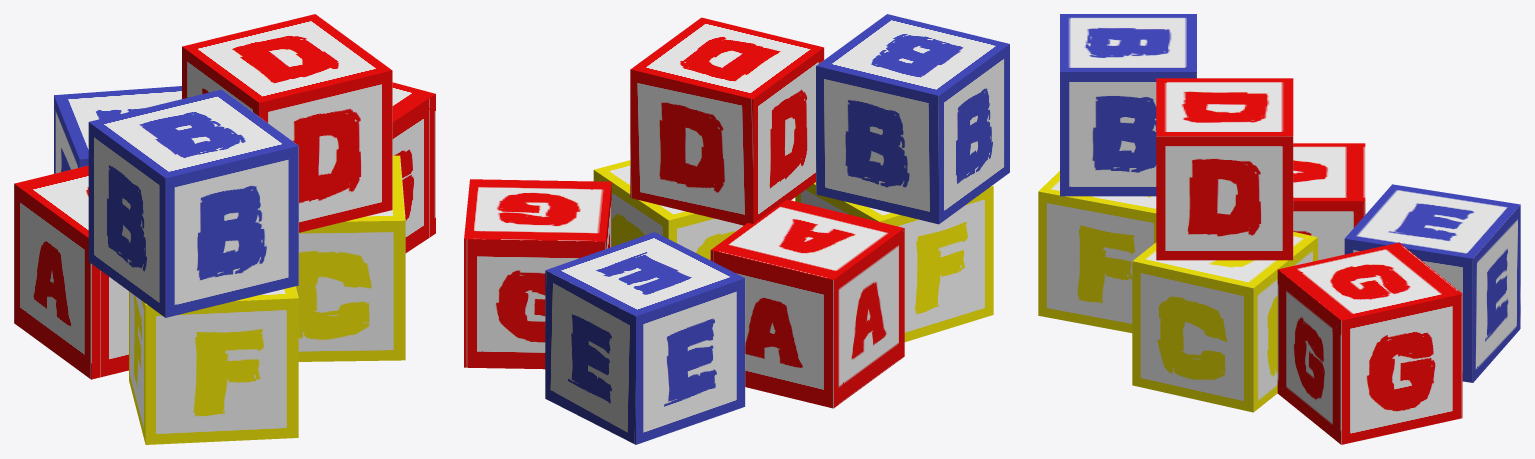
The model's file is Blocks.fbx.
3 views of the same model, side by side, from view 1: azimuth 30°, elevation 25°; view 2: azimuth 150°, elevation 25°; view 3: azimuth 270°, elevation 25° (orthographic). The views are drawn at different scales.
Visible parts, largest first — view 1: pCube4, pCube1, pCube3, pCube6, pCube2, pCube7, pCube5; view 2: pCube5, pCube4, pCube1, pCube6, pCube7, pCube3, pCube2; view 3: pCube7, pCube1, pCube2, pCube4, pCube5, pCube3, pCube6.
Part boxes in pixels (left/top/right/bottom): pCube4: left=88, top=89, right=298, bottom=317; pCube1: left=182, top=14, right=392, bottom=232; pCube3: left=129, top=286, right=298, bottom=444; pCube6: left=14, top=165, right=128, bottom=379; pCube2: left=295, top=155, right=405, bottom=361; pCube7: left=392, top=82, right=435, bottom=252; pCube5: left=54, top=86, right=181, bottom=173; pCube5: left=545, top=232, right=745, bottom=444; pCube4: left=816, top=14, right=1009, bottom=224; pCube1: left=630, top=17, right=824, bottom=225; pCube6: left=710, top=199, right=904, bottom=408; pCube7: left=464, top=179, right=611, bottom=369; pCube3: left=795, top=182, right=993, bottom=342; pCube2: left=593, top=160, right=743, bottom=260; pCube7: left=1277, top=242, right=1462, bottom=444; pCube1: left=1156, top=78, right=1293, bottom=260; pCube2: left=1132, top=231, right=1317, bottom=412; pCube4: left=1060, top=14, right=1196, bottom=196; pCube5: left=1344, top=184, right=1520, bottom=382; pCube3: left=1038, top=171, right=1156, bottom=332; pCube6: left=1293, top=143, right=1365, bottom=260.
Bounding box in the file's own units: 3.22 × 2.02 × 3.52.
Materials: 7 (7 with a texture image).
